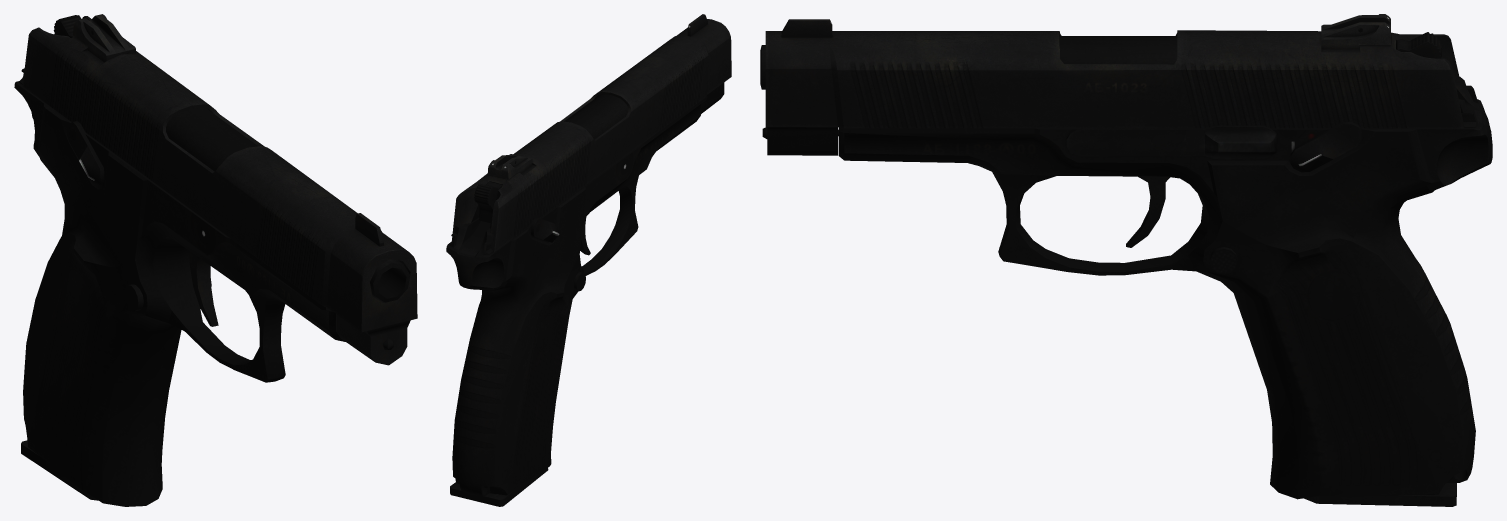
The picture shows the model from 3 angles, left to right: view 1: azimuth 30°, elevation 25°; view 2: azimuth 150°, elevation 25°; view 3: azimuth 270°, elevation 25°; orthographic projection. The views are drawn at different scales.
Visible parts, largest first — view 1: Mesh_0009, Slide, Trigger, Mag; view 2: Mesh_0009, Slide, Mag, Hammer; view 3: Mesh_0009, Slide, Mag, Trigger, Hammer.
Boxes of the visible parts, x1,y1,x2,y2 form: Mesh_0009: (14, 68, 409, 506); Slide: (22, 14, 417, 365); Trigger: (189, 251, 218, 326); Mag: (21, 440, 98, 500); Mesh_0009: (446, 94, 707, 495); Slide: (451, 14, 731, 251); Mag: (450, 468, 548, 506); Hammer: (474, 181, 502, 222); Mesh_0009: (760, 36, 1492, 499); Slide: (765, 14, 1464, 155); Mag: (1304, 483, 1456, 506); Trigger: (1126, 176, 1169, 247); Hammer: (1396, 32, 1441, 58).
Size of the model in its own units: 3.42 by 15.15 by 21.49.
